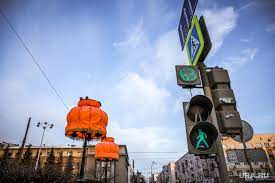tl: (175, 65, 219, 156)
